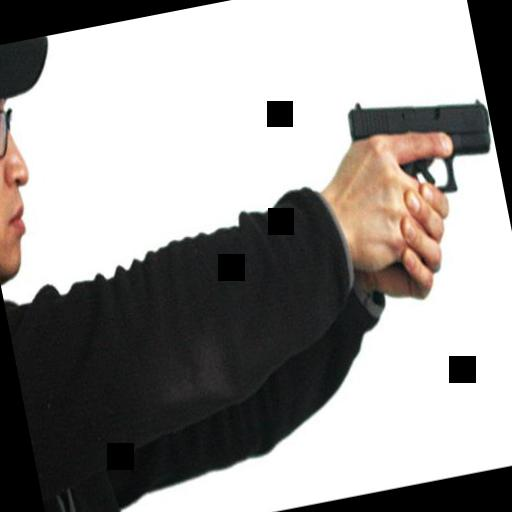Handgun: (340, 70, 502, 217)
